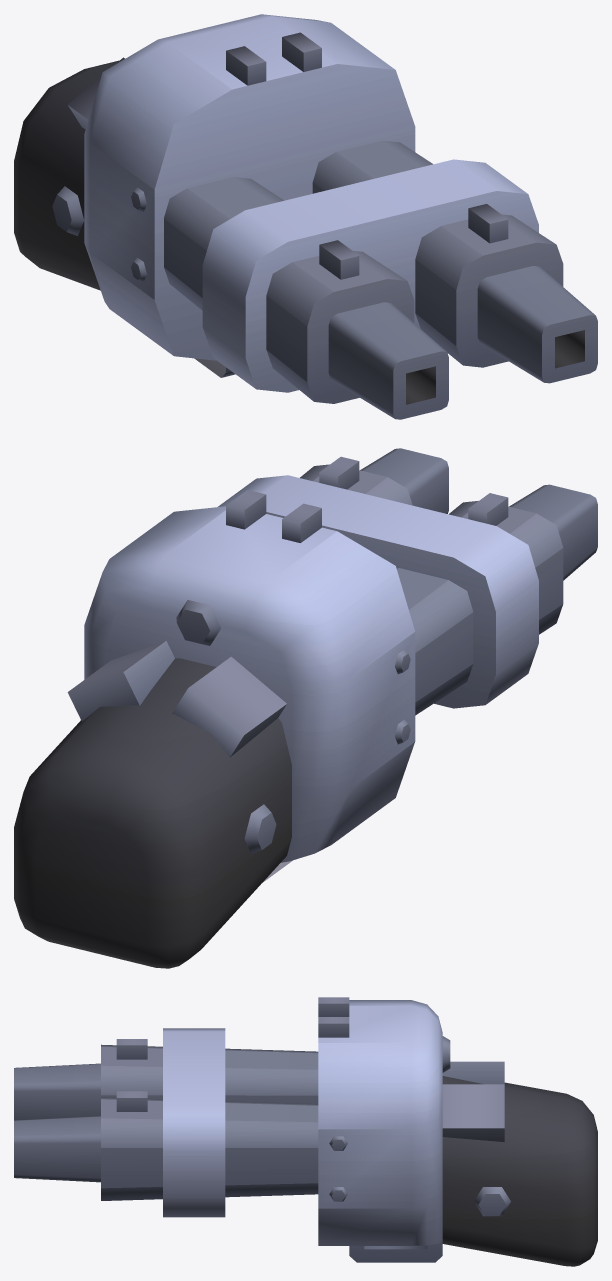
File: blaster-repeater.glb
3 renders of one model, top to bottom at view 1: azimuth 30°, elevation 25°; view 2: azimuth 150°, elevation 25°; view 3: azimuth 270°, elevation 25°, orthographic. The views are drawn at different scales.
Parts seen in each view (by area): view 1: blaster-repeater, Group; view 2: blaster-repeater, Group; view 3: blaster-repeater, Group.
Part boxes in pixels (x1,y1,x2,y2): blaster-repeater: (14, 14, 597, 419); Group: (202, 159, 538, 392); blaster-repeater: (14, 448, 597, 968); Group: (218, 475, 538, 708); blaster-repeater: (14, 997, 597, 1266); Group: (163, 1028, 225, 1217).
Size of the model in its own units: 0.7875 by 0.8499 by 1.88.
1 material, 1 textured.
